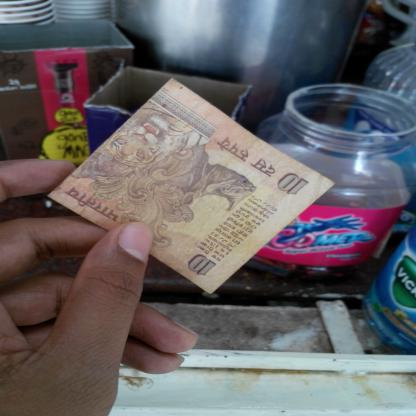Old10Back: (44, 77, 336, 297)
